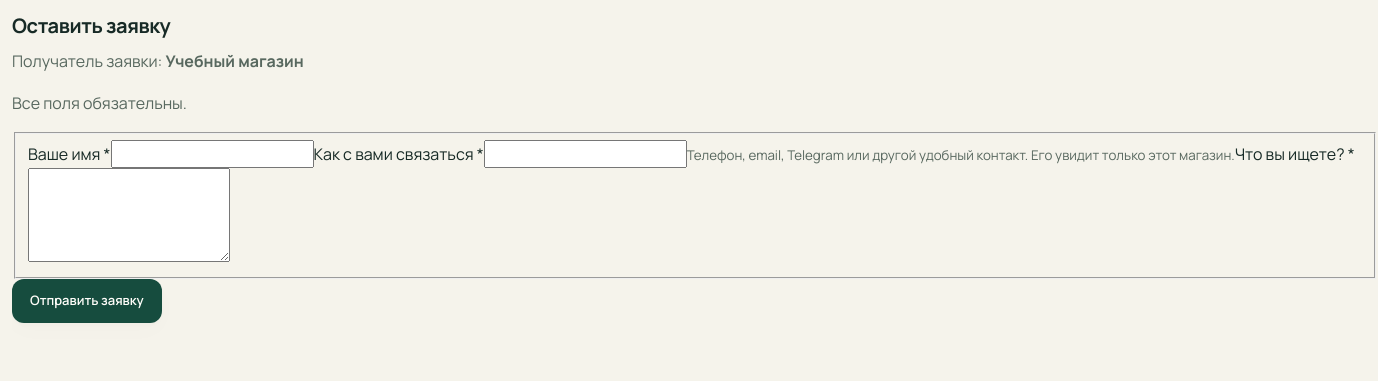
Test case: deadline unlocks explicit retry while preserving the exact request after unknown outcome
The width and height of the screenshot is (1378, 381).
Type "Алия" into the field labelled "Ваше имя *" at (212, 154), box x1=111 y1=140 x2=314 y2=168
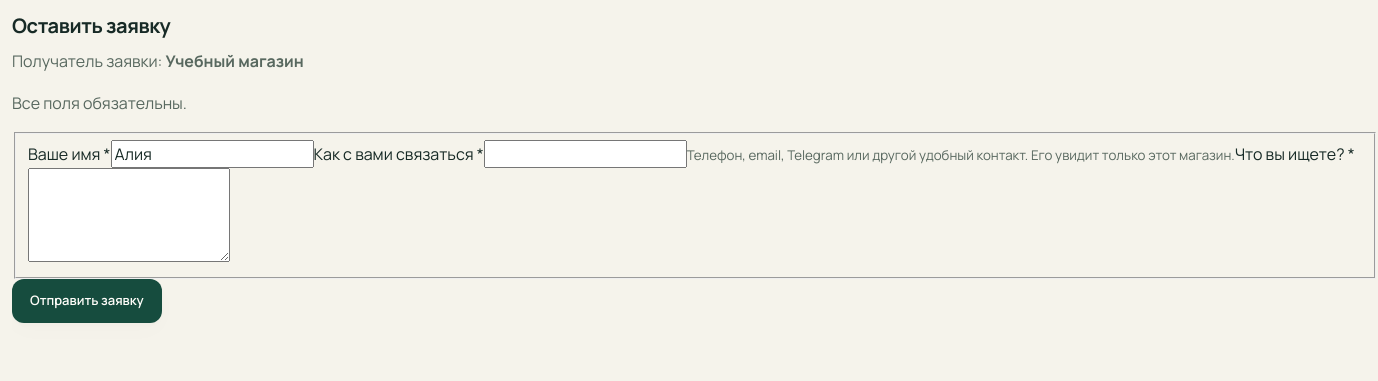
Type "buyer@example.test" into the field labelled "Как с вами связаться" at (585, 154), box x1=484 y1=140 x2=687 y2=168
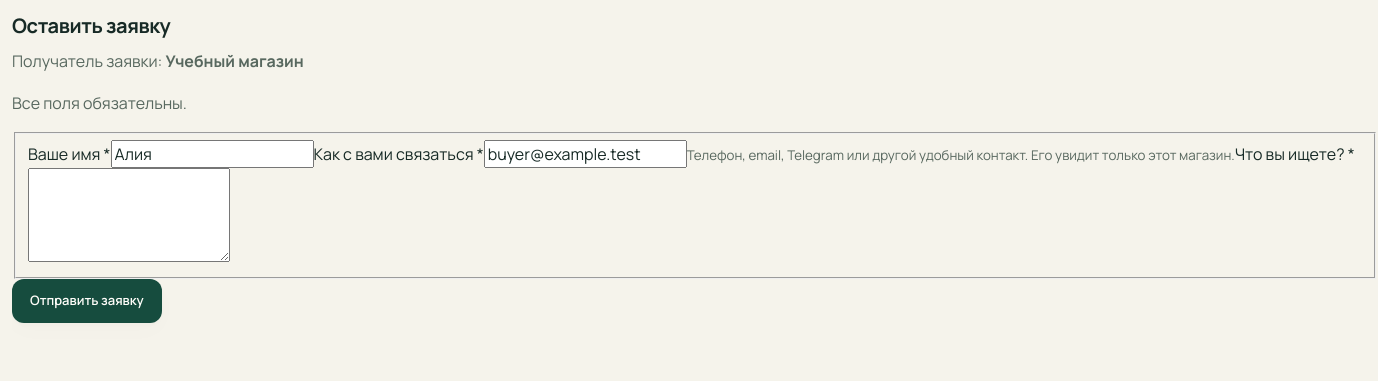
Type "Учебная заявка" into the text box labelled "Что вы ищете? *" at (129, 215), box x1=28 y1=168 x2=230 y2=262
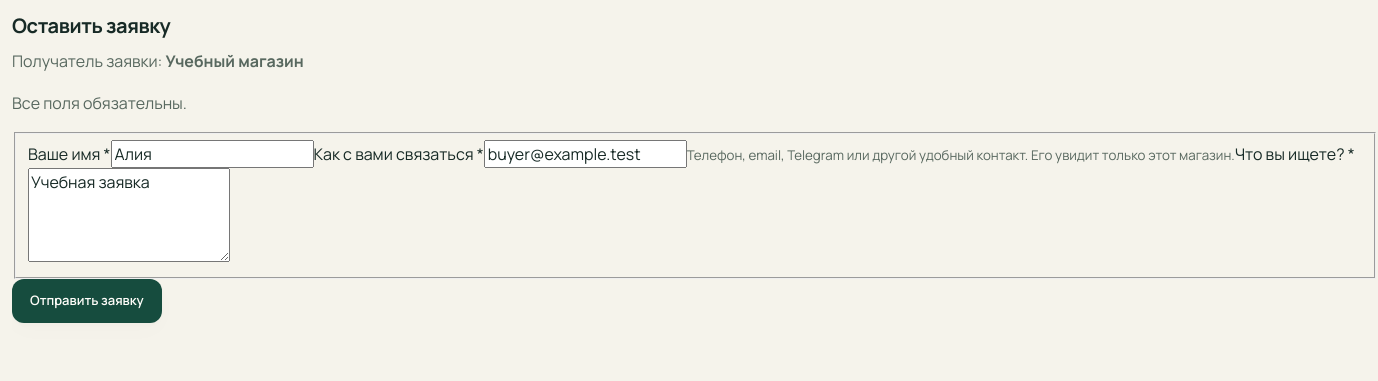
Click the button "Отправить заявку" at (87, 301), box x1=12 y1=279 x2=162 y2=323
Wait 20000 ms
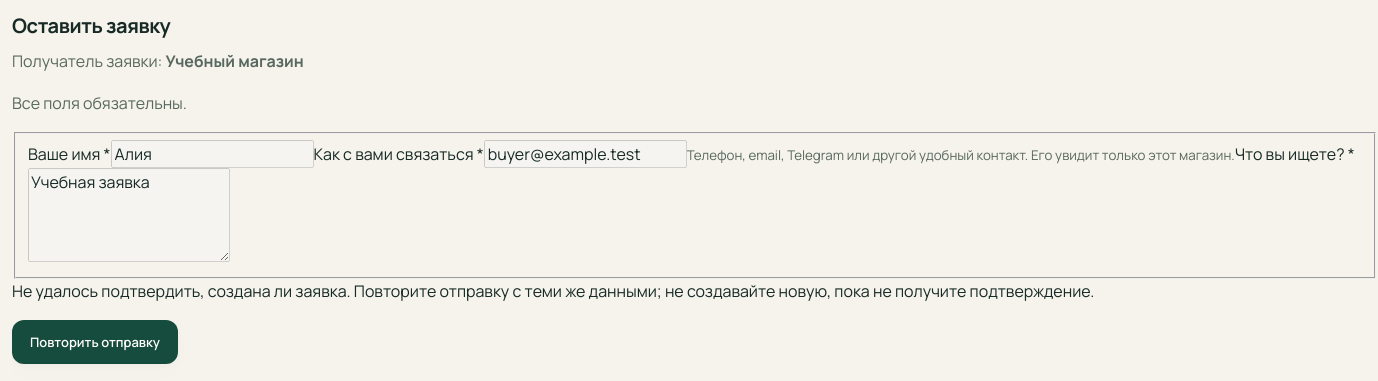
Check: the field labelled "Ваше имя *" is disabled, box x1=111 y1=140 x2=314 y2=168
Check: the message shows "Не удалось подтвердить", box x1=12 y1=280 x2=1094 y2=302
Click the button "Повторить отправку" at (95, 342), box x1=12 y1=320 x2=178 y2=364
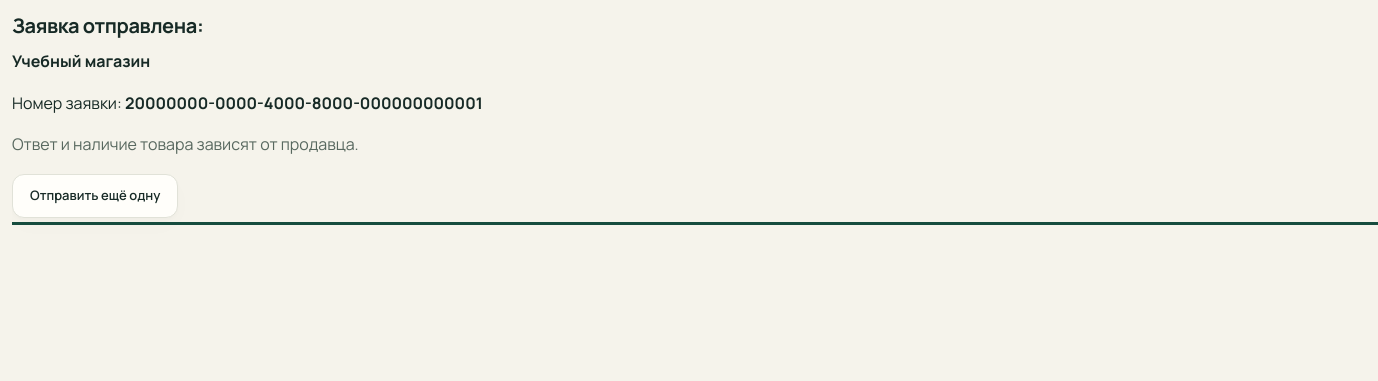
Check: the heading "Заявка отправлена:" is shown, box x1=12 y1=12 x2=203 y2=39
